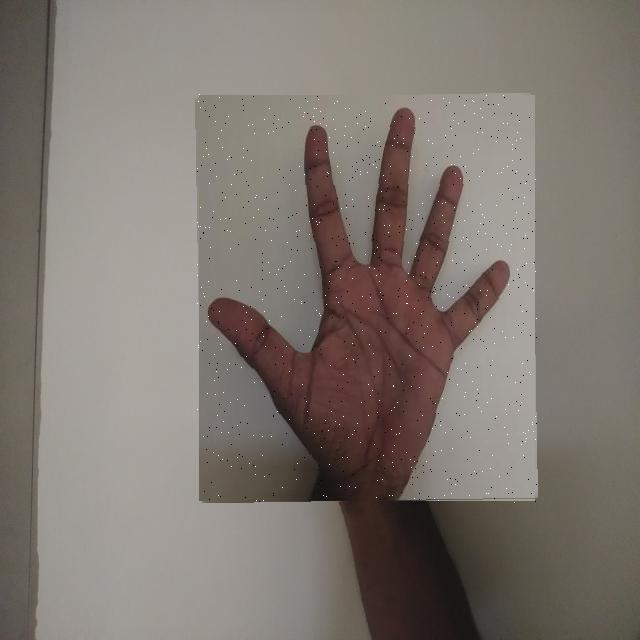Yes: (197, 94, 537, 503)
